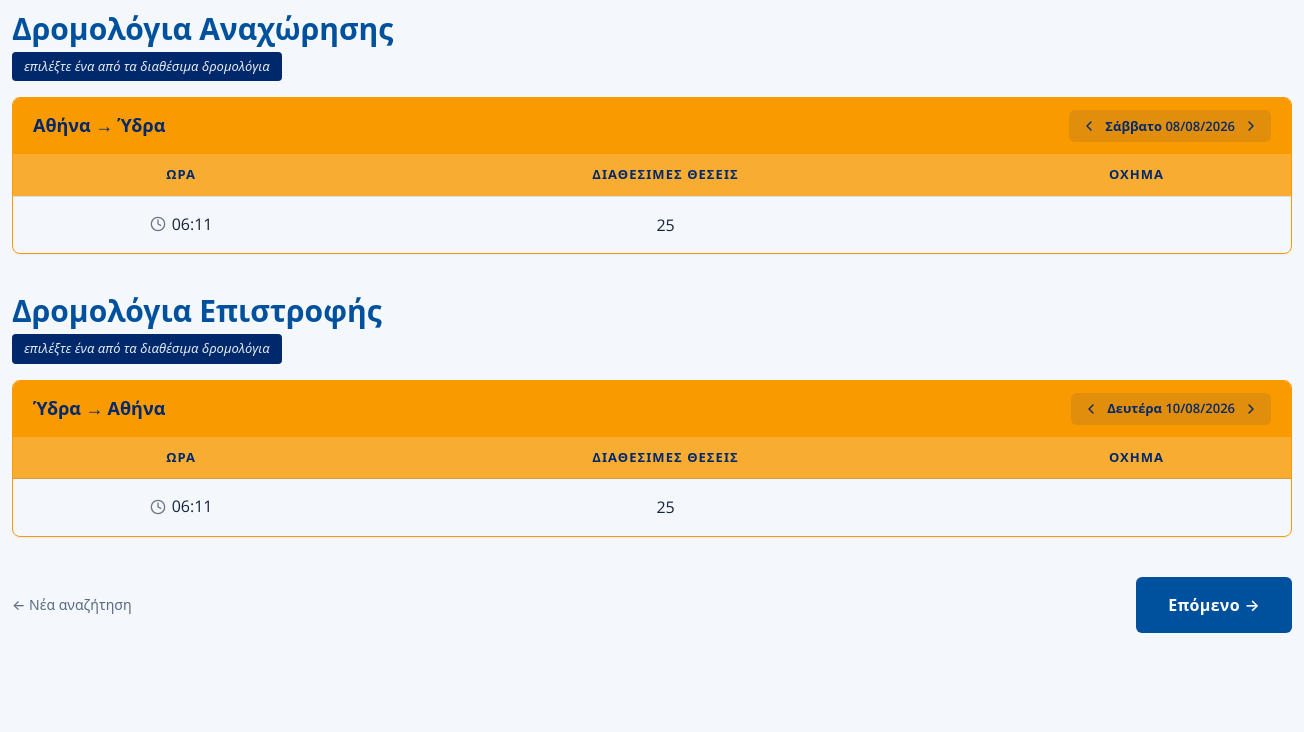
Test case: TripList — εμφάνιση και ροή › μετ᾽ επιστροφής: δύο πίνακες και απαίτηση επιλογής επιστροφής
This screenshot has width=1304, height=732.
Expected: the heading "Δρομολόγια Επιστροφής" is shown, [12,292,382,334]
Click the radio button labelled "06:11 25" below "Αθήνα → Ύδρα".
click(652, 225)  # box [13,196,1291,254]
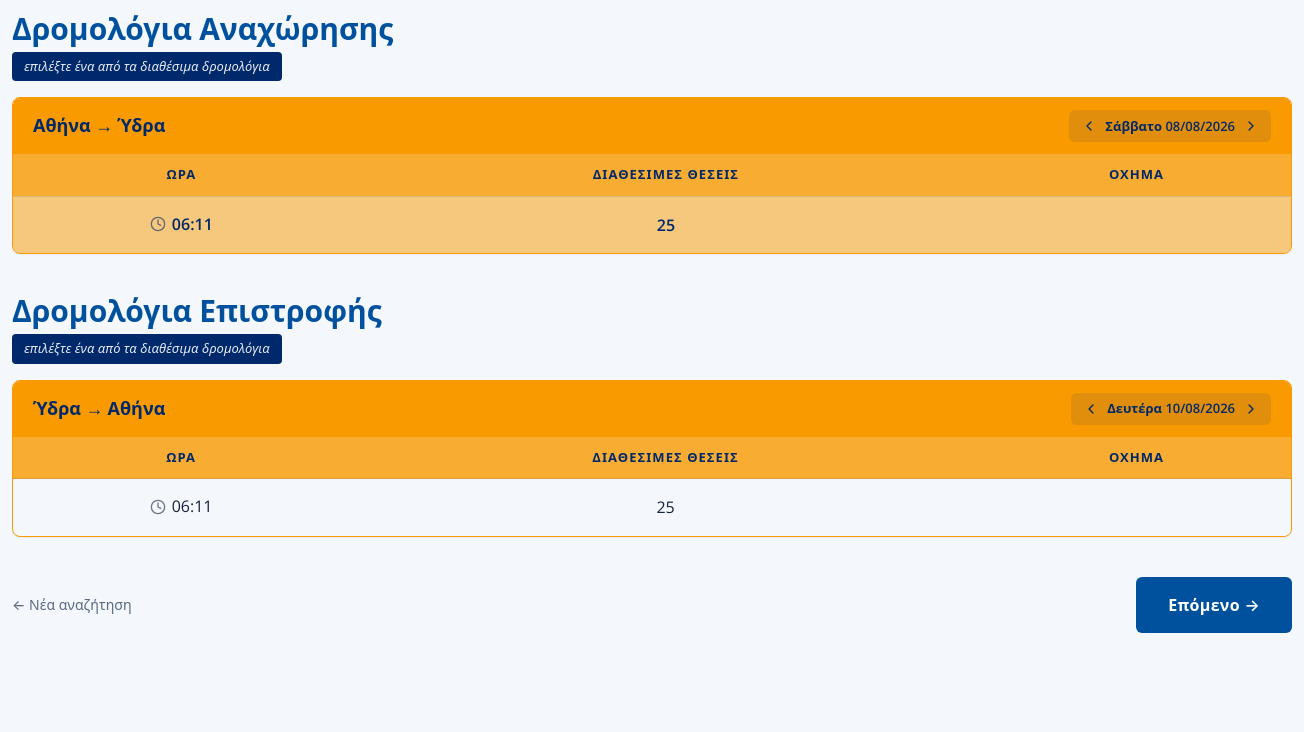
Click the button "Επόμενο →".
click(1214, 605)  # box [1136,577,1292,633]
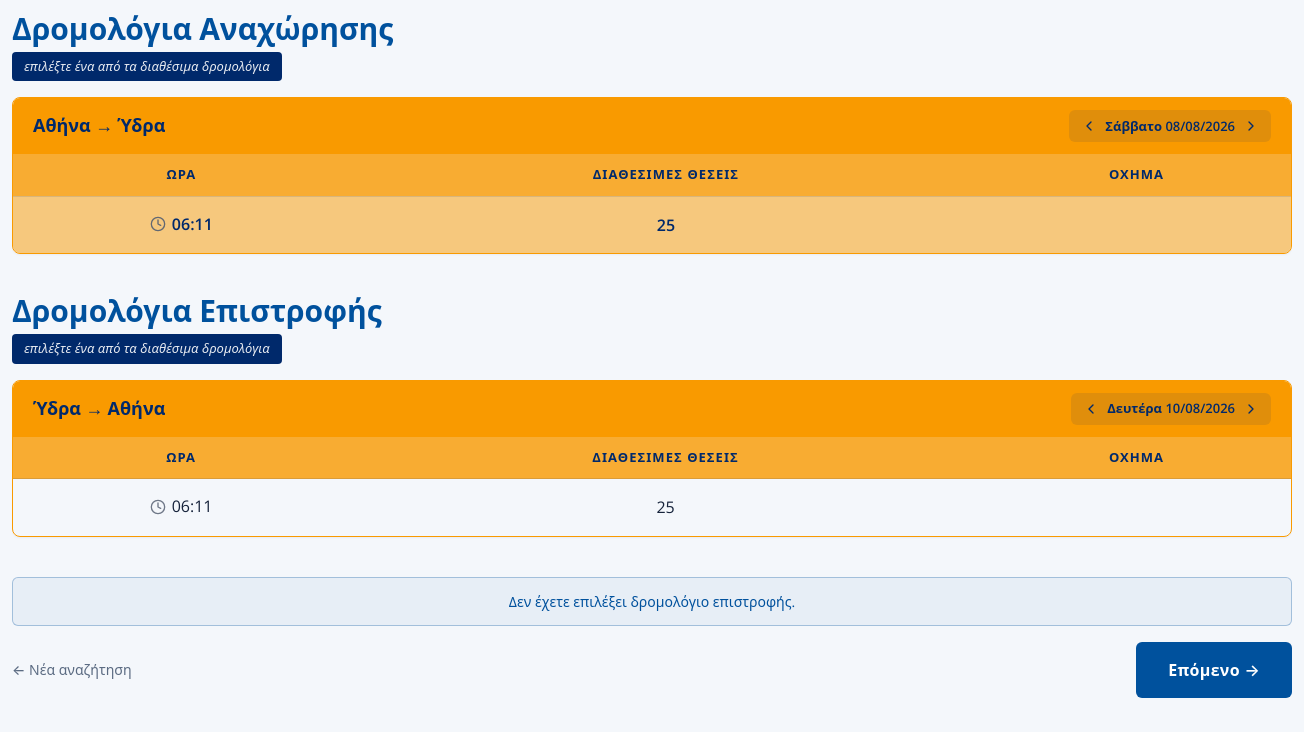
Expected: the text "Δεν έχετε επιλέξει δρομολόγιο επιστροφής." is shown, [12,577,1292,626]
